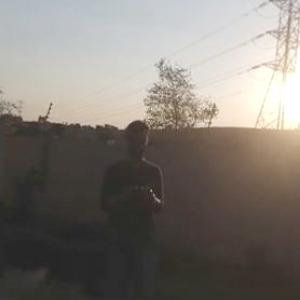follow: (97, 116, 167, 299)
